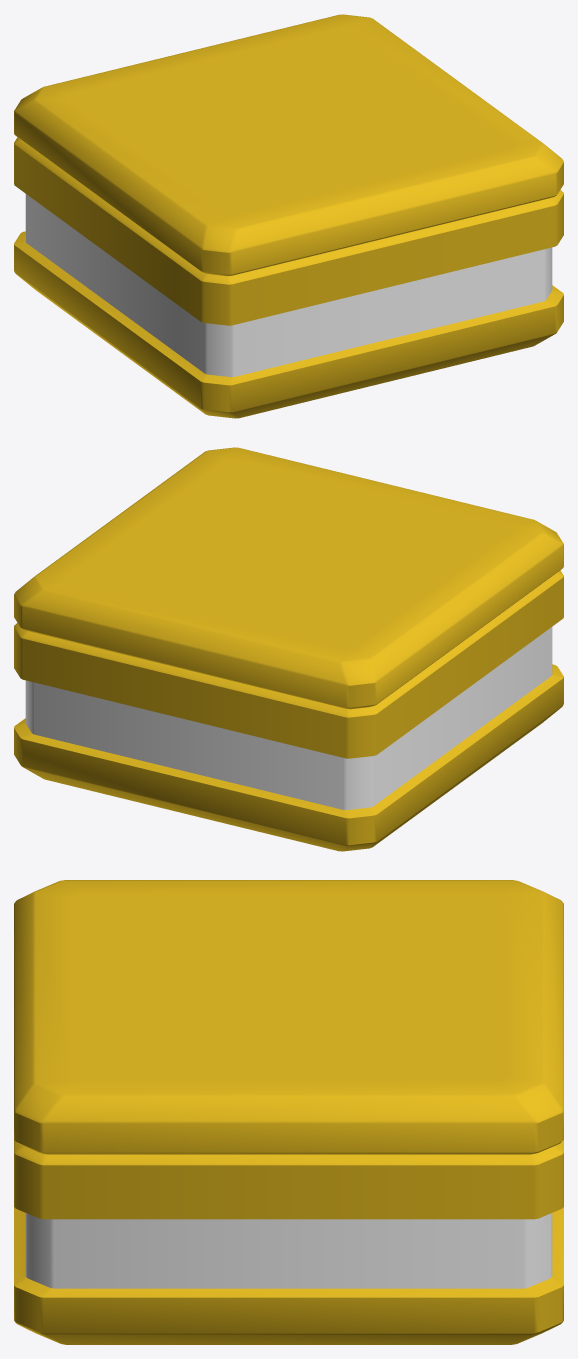
File: 11_Box_yellow_semi_sized.fbx
3 renders of one model, top to bottom at view 1: azimuth 30°, elevation 25°; view 2: azimuth 150°, elevation 25°; view 3: azimuth 270°, elevation 25°, orthographic. The views are drawn at different scales.
Parts seen in each view (by area): view 1: 11_Box_yellow_semi_sized; view 2: 11_Box_yellow_semi_sized; view 3: 11_Box_yellow_semi_sized.
Boxes of the visible parts, x1,y1,x2,y2 form: 11_Box_yellow_semi_sized: [14, 14, 563, 418]; 11_Box_yellow_semi_sized: [14, 447, 563, 851]; 11_Box_yellow_semi_sized: [14, 880, 563, 1344].
Bounding box in the file's own units: 100 × 50 × 100.
